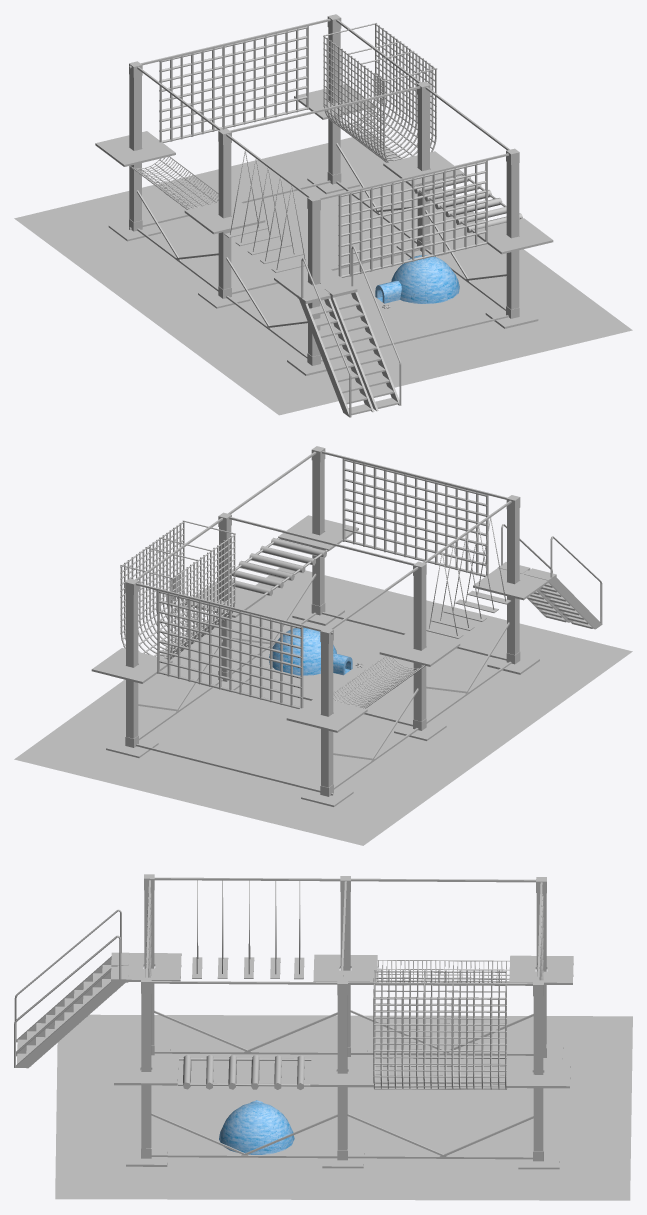
Rendered from Accrobranche.fbx.
3 renders of one model, top to bottom at view 1: azimuth 30°, elevation 25°; view 2: azimuth 150°, elevation 25°; view 3: azimuth 270°, elevation 25°, orthographic. The views are drawn at different scales.
Visible parts, largest first — view 1: Sol.002, PoteauxAccro, TopCord, Escalier, MurCorde01_plan-projet-hiver.001, MurCorde01_plan-projet-hiver.002, PoteauxHorizontaux, Igloo, Balancoires, PontBranches, PontCorde_plan-projet-hiver.001; view 2: Sol.002, PoteauxAccro, TopCord, MurCorde01_plan-projet-hiver.002, PoteauxHorizontaux, MurCorde01_plan-projet-hiver.001, Escalier, PontBranches, Balancoires, Igloo, PontCorde_plan-projet-hiver.001; view 3: Sol.002, PoteauxAccro, TopCord, PoteauxHorizontaux, Escalier, Igloo, PontBranches, Balancoires, PontCorde_plan-projet-hiver.001.
Boxes of the visible parts, box(x1,y1,x2,y2) form: Sol.002: box(14, 133, 632, 415); PoteauxAccro: box(95, 14, 553, 375); TopCord: box(323, 23, 437, 162); Escalier: box(298, 246, 401, 417); MurCorde01_plan-projet-hiver.001: box(338, 160, 487, 277); MurCorde01_plan-projet-hiver.002: box(159, 26, 308, 142); PoteauxHorizontaux: box(129, 18, 509, 361); Igloo: box(375, 255, 459, 303); Balancoires: box(224, 150, 307, 272); PontBranches: box(414, 173, 522, 232); PontCorde_plan-projet-hiver.001: box(129, 156, 218, 209); Sol.002: box(14, 567, 632, 845); PoteauxAccro: box(91, 446, 553, 806); TopCord: box(120, 520, 235, 659); MurCorde01_plan-projet-hiver.002: box(157, 590, 303, 708); PoteauxHorizontaux: box(135, 451, 511, 795); MurCorde01_plan-projet-hiver.001: box(342, 458, 488, 576); Escalier: box(498, 524, 602, 629); PontBranches: box(216, 537, 327, 595); Balancoires: box(426, 517, 510, 638); Igloo: box(269, 627, 352, 675); PontCorde_plan-projet-hiver.001: box(333, 655, 425, 708); Sol.002: box(55, 1014, 632, 1200); PoteauxAccro: box(114, 874, 573, 1169); TopCord: box(373, 969, 507, 1089); PoteauxHorizontaux: box(146, 877, 542, 1159); Escalier: box(14, 909, 129, 1068); Igloo: box(219, 1100, 294, 1154); PontBranches: box(178, 1054, 311, 1089); Balancoires: box(192, 880, 304, 979); PontCorde_plan-projet-hiver.001: box(377, 960, 509, 982).
Size of the model in its own units: 900 by 404 by 1266.
